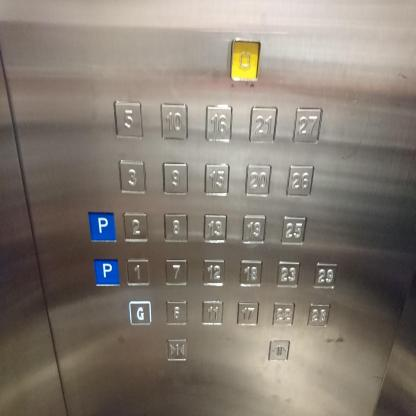1: (125, 256, 151, 286)
10: (159, 101, 189, 141)
11: (200, 300, 224, 326)
12: (201, 258, 226, 287)
13: (202, 212, 228, 244)
15: (202, 162, 230, 197)
16: (203, 104, 234, 144)
17: (236, 301, 260, 327)
18: (239, 258, 263, 288)
19: (241, 213, 267, 244)
2: (122, 211, 148, 242)
20: (244, 163, 272, 198)
21: (247, 106, 279, 145)
22: (271, 302, 295, 326)
23: (276, 258, 301, 288)
25: (281, 214, 307, 246)
26: (284, 164, 315, 198)
27: (291, 106, 323, 145)
28: (307, 303, 330, 327)
29: (314, 262, 338, 290)
3: (118, 158, 147, 195)
5: (113, 99, 143, 139)
6: (165, 299, 189, 325)
7: (165, 258, 188, 286)
8: (163, 212, 189, 243)
9: (162, 161, 189, 194)
G: (128, 300, 153, 325)
P: (88, 209, 117, 242), (92, 257, 120, 286)
alarm: (229, 38, 262, 82)
close: (166, 337, 188, 362)
open: (266, 338, 290, 362)
